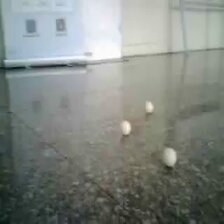w: (160, 146, 177, 167), (119, 121, 133, 137), (144, 101, 154, 113)
